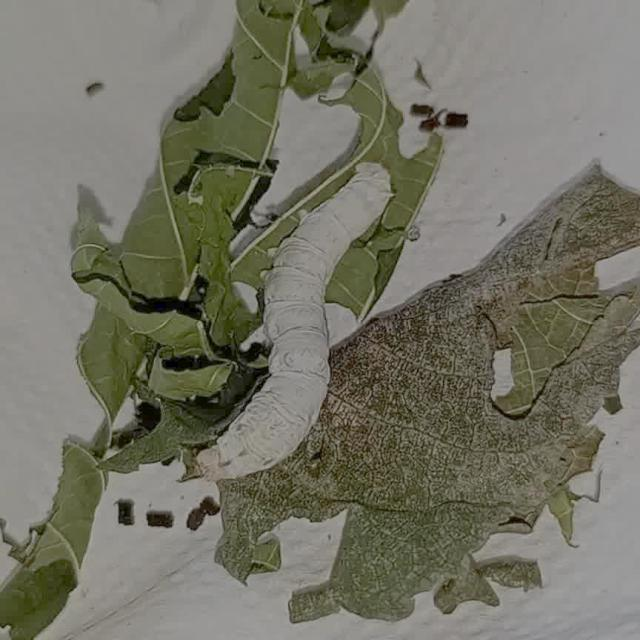Healthy: (172, 126, 419, 505)
